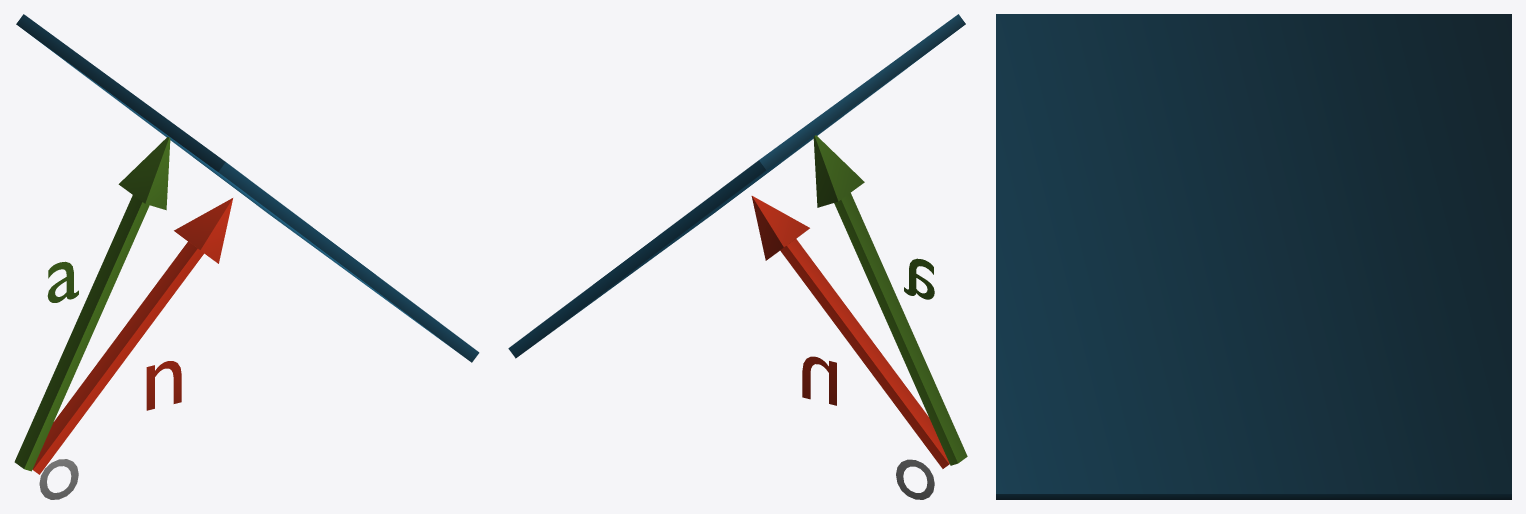
The picture shows the model from 3 angles, left to right: view 1: azimuth 30°, elevation 25°; view 2: azimuth 150°, elevation 25°; view 3: azimuth 270°, elevation 25°; orthographic projection. The views are drawn at different scales.
Parts seen in each view (by area): view 1: Cube.011, Cube.009, Cube.010, Text.004, Text.003, Text.005; view 2: Cube.011, Cube.009, Cube.010, Text.004, Text.003, Text.005; view 3: Cube.011.
Part boxes in pixels (x1=…): Cube.011: x1=16, y1=14, x2=479, y2=362; Cube.009: x1=14, y1=137, x2=170, y2=471; Cube.010: x1=32, y1=198, x2=232, y2=474; Text.004: x1=146, y1=361, x2=181, y2=410; Text.003: x1=39, y1=459, x2=78, y2=499; Text.005: x1=47, y1=261, x2=78, y2=302; Cube.011: x1=508, y1=14, x2=965, y2=358; Cube.009: x1=813, y1=135, x2=967, y2=465; Cube.010: x1=751, y1=196, x2=949, y2=468; Text.004: x1=802, y1=356, x2=836, y2=405; Text.003: x1=896, y1=459, x2=934, y2=499; Text.005: x1=904, y1=258, x2=934, y2=299; Cube.011: x1=996, y1=14, x2=1511, y2=499.
Bounding box in the file's own units: 2.37 × 2.52 × 2.31.
Materials: 1 (1 with a texture image).
